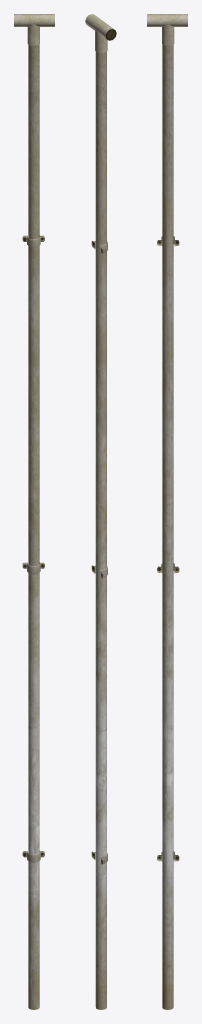
Rendered from Electric_Pipe_Big.fbx.
3 renders of one model, left to right at view 1: azimuth 90°, elevation 25°; view 2: azimuth 210°, elevation 25°; view 3: azimuth 270°, elevation 25°, orthographic.
Parts seen in each view (by area): view 1: Electric_Pipe_Big; view 2: Electric_Pipe_Big; view 3: Electric_Pipe_Big.
Boxes of the visible parts, left/top/right/bottom form: Electric_Pipe_Big: left=14, top=14, right=54, bottom=1009; Electric_Pipe_Big: left=85, top=14, right=116, bottom=1009; Electric_Pipe_Big: left=147, top=14, right=187, bottom=1009.
Bounding box in the file's own units: 0.0283 × 2.29 × 0.0856.
